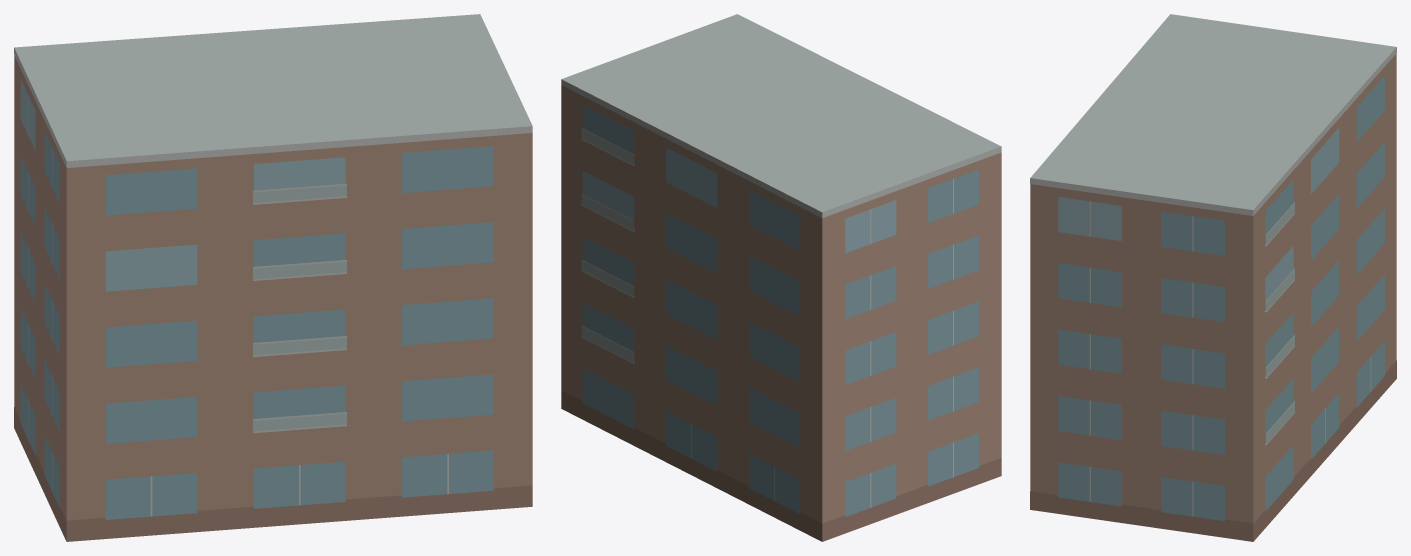
File: survey-upis-32851883.glb
3 views of the same model, side by side, from view 1: azimuth 30°, elevation 25°; view 2: azimuth 150°, elevation 25°; view 3: azimuth 270°, elevation 25° (orthographic). The views are drawn at different scales.
Parts seen in each view (by area): view 1: survey-upis-32851883.tmp; view 2: survey-upis-32851883.tmp; view 3: survey-upis-32851883.tmp.
Part boxes in pixels (bbox=[...]): survey-upis-32851883.tmp: bbox=[14, 14, 532, 541]; survey-upis-32851883.tmp: bbox=[561, 14, 1001, 541]; survey-upis-32851883.tmp: bbox=[1030, 14, 1396, 541].
Size of the model in its own units: 17.38 by 13.7 by 13.74.
